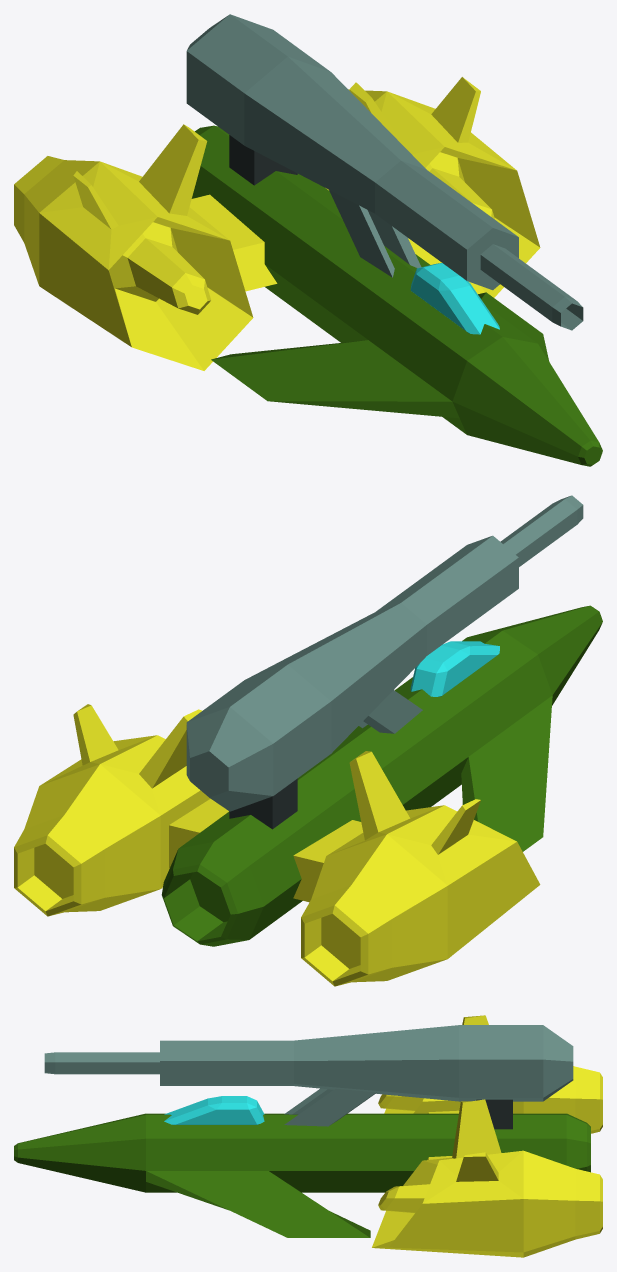
File: NPCC.fbx
The picture shows the model from 3 angles, top to bottom: view 1: azimuth 30°, elevation 25°; view 2: azimuth 150°, elevation 25°; view 3: azimuth 270°, elevation 25°; orthographic projection. The views are drawn at different scales.
Parts seen in each view (by area): view 1: Engine, Fuselage, Gun, Cockpit, Support; view 2: Engine, Fuselage, Gun, Cockpit, Support; view 3: Fuselage, Gun, Engine, Cockpit, Support.
Boxes of the visible parts, x1=… form: Engine: x1=14, y1=77, x2=540, y2=370; Fuselage: x1=191, y1=125, x2=602, y2=466; Gun: x1=186, y1=14, x2=583, y2=330; Cockpit: x1=410, y1=263, x2=499, y2=334; Support: x1=229, y1=135, x2=297, y2=185; Engine: x1=14, y1=704, x2=540, y2=986; Fuselage: x1=161, y1=605, x2=602, y2=946; Gun: x1=186, y1=495, x2=583, y2=811; Cockpit: x1=410, y1=641, x2=499, y2=696; Support: x1=229, y1=778, x2=297, y2=829; Fuselage: x1=14, y1=1113, x2=590, y2=1237; Gun: x1=44, y1=1025, x2=573, y2=1126; Engine: x1=372, y1=1015, x2=602, y2=1257; Cockpit: x1=164, y1=1096, x2=264, y2=1124; Support: x1=476, y1=1099, x2=512, y2=1129.
Bounding box in the file's own units: 815 × 475 × 1397.
